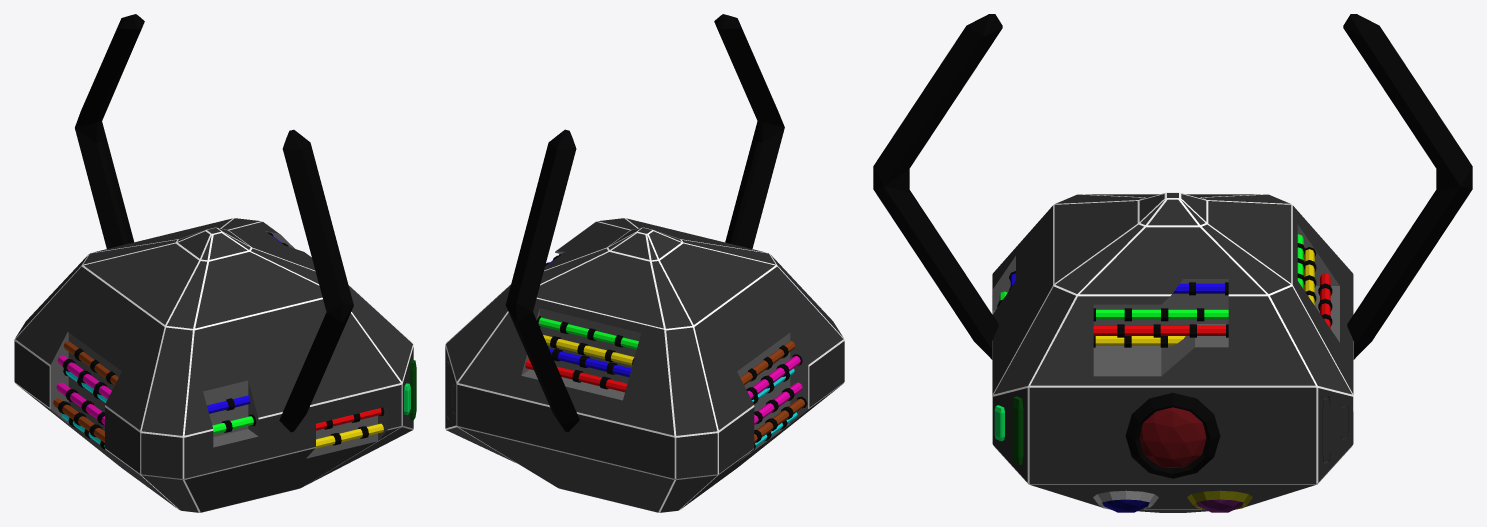
Rendered from SoGlad.fbx.
3 views of the same model, side by side, from view 1: azimuth 30°, elevation 25°; view 2: azimuth 150°, elevation 25°; view 3: azimuth 270°, elevation 25° (orthographic). The views are drawn at different scales.
Visible parts, largest first — view 1: Core, Arms; view 2: Core, Arms; view 3: Core, Arms, Eye1, Eye2, NotASpyCam.
Part boxes in pixels (x1,y1,x2,y2): Core: (14, 218, 416, 512); Arms: (75, 14, 353, 432); Core: (445, 218, 844, 512); Arms: (505, 14, 784, 432); Core: (992, 192, 1353, 512); Arms: (873, 14, 1472, 359); Eye1: (1125, 393, 1220, 478); Eye2: (1093, 490, 1158, 512); NotASpyCam: (1187, 490, 1252, 512).
Size of the model in its own units: 209 by 300 by 331.
